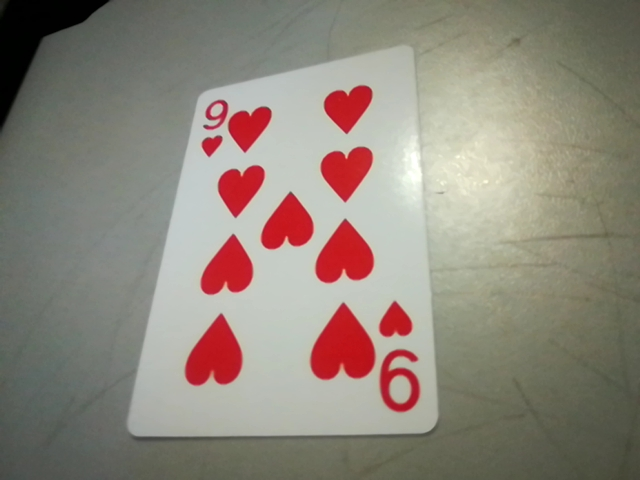hx 9: (371, 297, 435, 420), (186, 94, 232, 157)
